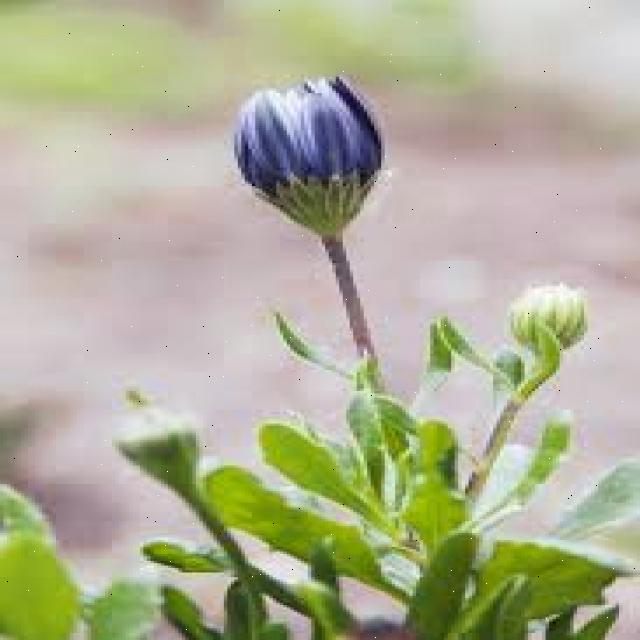Bloomed: (228, 72, 388, 240)
